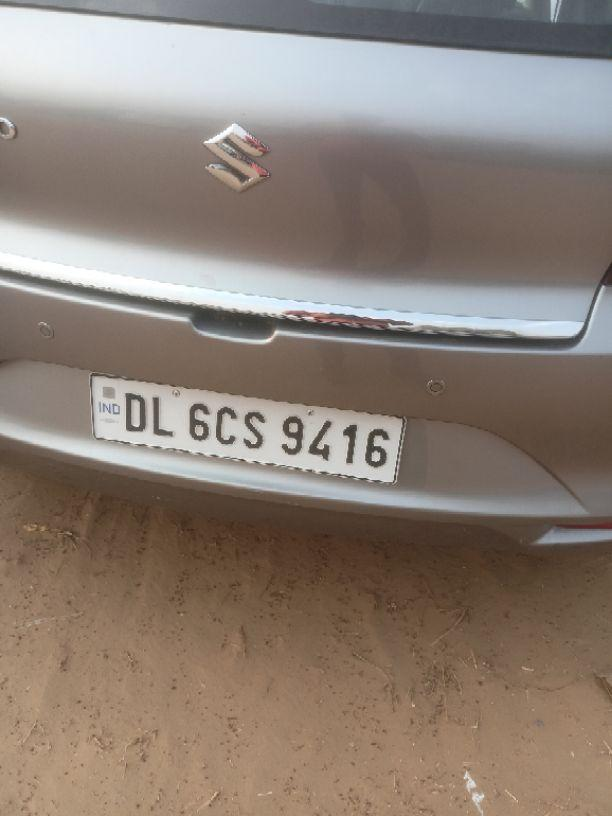license_plate: (1, 1, 610, 546), (88, 371, 407, 485)
